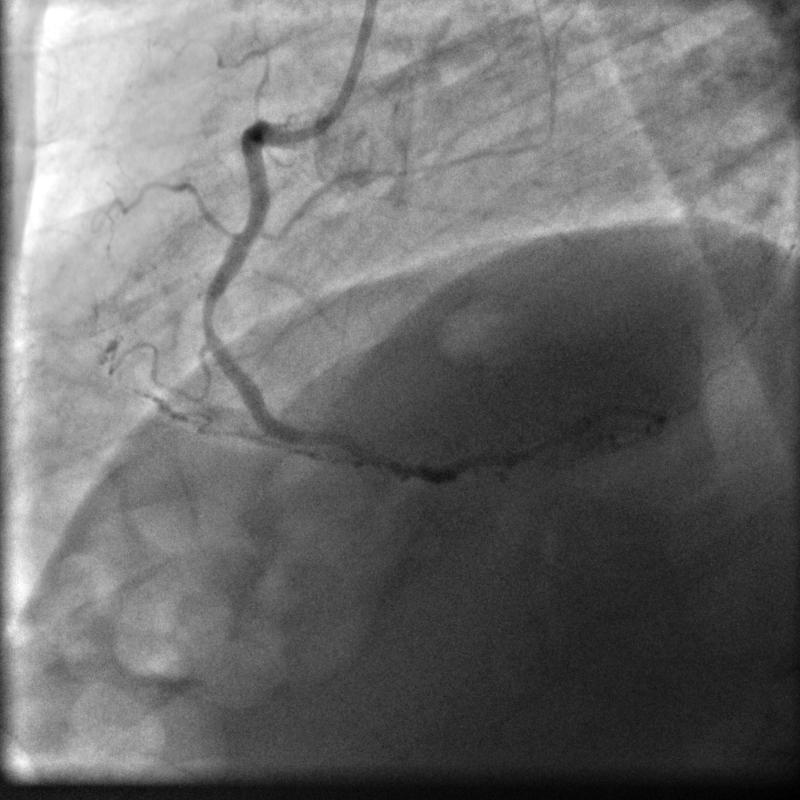Stenosis: (200, 300, 219, 332)
